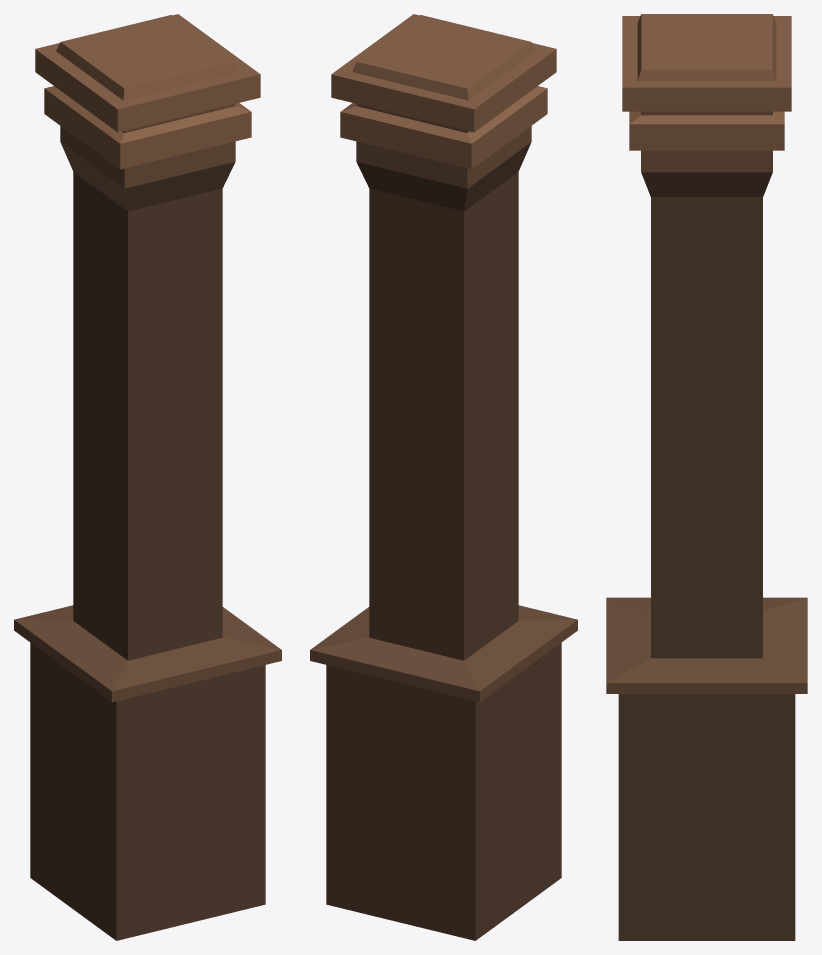
File: SM_Env_Port_Drydock_Large_Corner_01.fbx
3 renders of one model, left to right at view 1: azimuth 30°, elevation 25°; view 2: azimuth 150°, elevation 25°; view 3: azimuth 270°, elevation 25°, orthographic. The views are drawn at different scales.
Parts seen in each view (by area): view 1: SM_Env_Port_Drydock_Large_Corner_01; view 2: SM_Env_Port_Drydock_Large_Corner_01; view 3: SM_Env_Port_Drydock_Large_Corner_01.
Part boxes in pixels (x1,y1,x2,y2): SM_Env_Port_Drydock_Large_Corner_01: [14, 14, 281, 940]; SM_Env_Port_Drydock_Large_Corner_01: [310, 14, 577, 940]; SM_Env_Port_Drydock_Large_Corner_01: [606, 14, 807, 940].
Bounding box in the file's own units: 245 × 1159 × 245.
